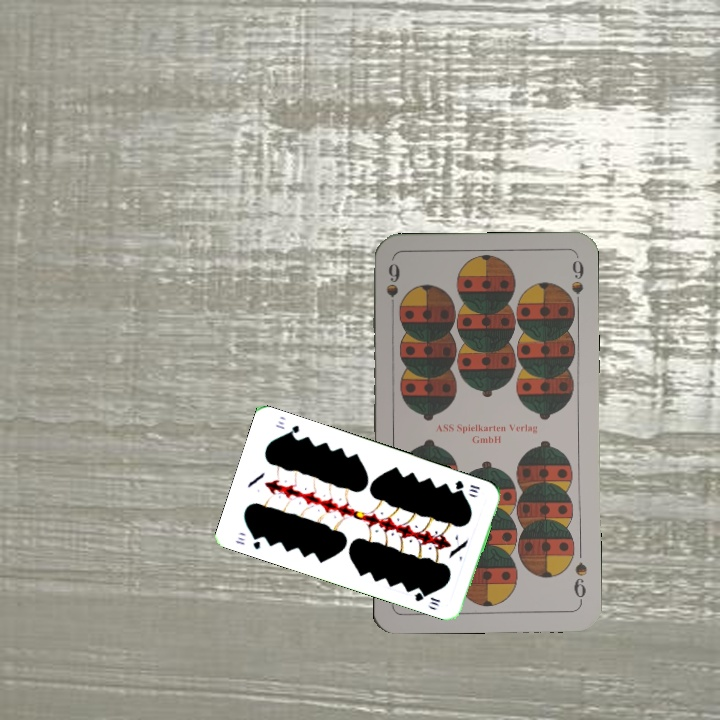G10: (231, 531, 263, 552), (451, 476, 482, 496)
S9: (382, 258, 403, 317), (570, 558, 590, 606)
